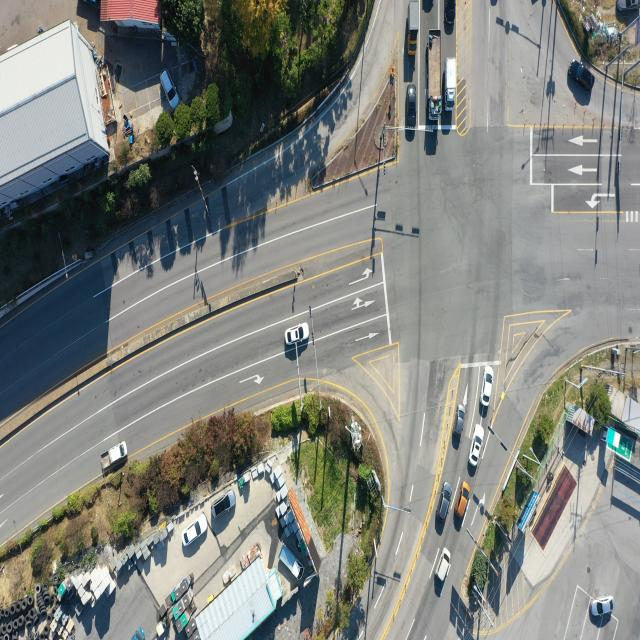car: (566, 59, 594, 94), (452, 480, 469, 532), (184, 513, 209, 546), (159, 68, 176, 108), (212, 490, 235, 519), (451, 404, 465, 451), (439, 482, 454, 522), (469, 426, 483, 466), (285, 323, 309, 345), (591, 596, 615, 617), (482, 368, 494, 408), (438, 549, 452, 583), (406, 84, 416, 130), (446, 0, 456, 28), (616, 0, 639, 12), (424, 0, 433, 13)
medium_truck: (427, 32, 442, 116)
small_truck: (276, 541, 304, 577), (103, 439, 130, 472), (445, 58, 458, 111), (409, 3, 421, 57), (133, 623, 145, 640)
